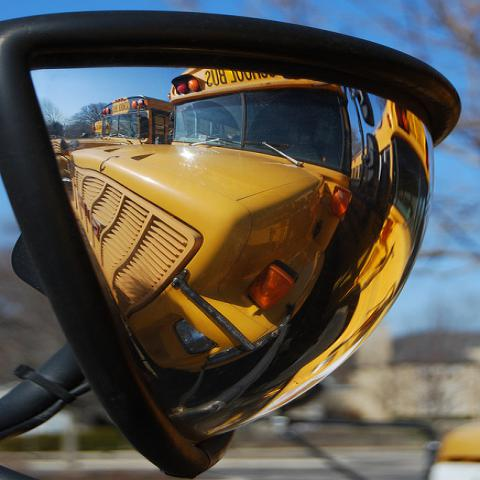bus: (67, 66, 430, 414), (52, 96, 174, 176), (90, 121, 103, 134)
